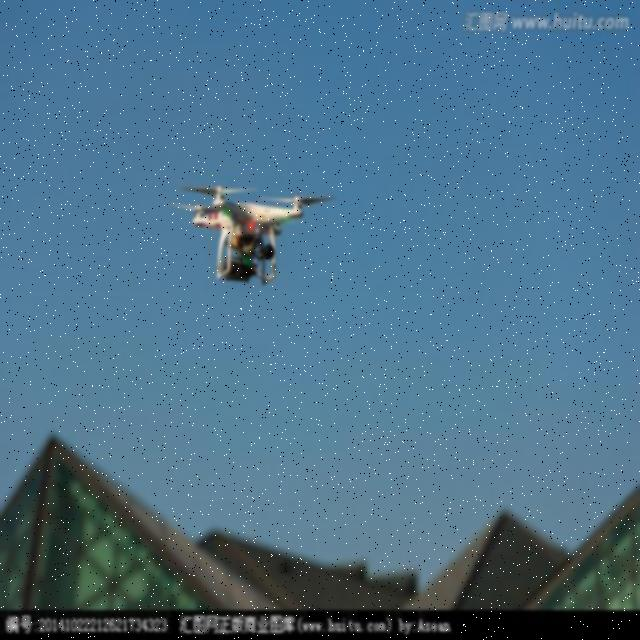UAV: (190, 180, 306, 290)
